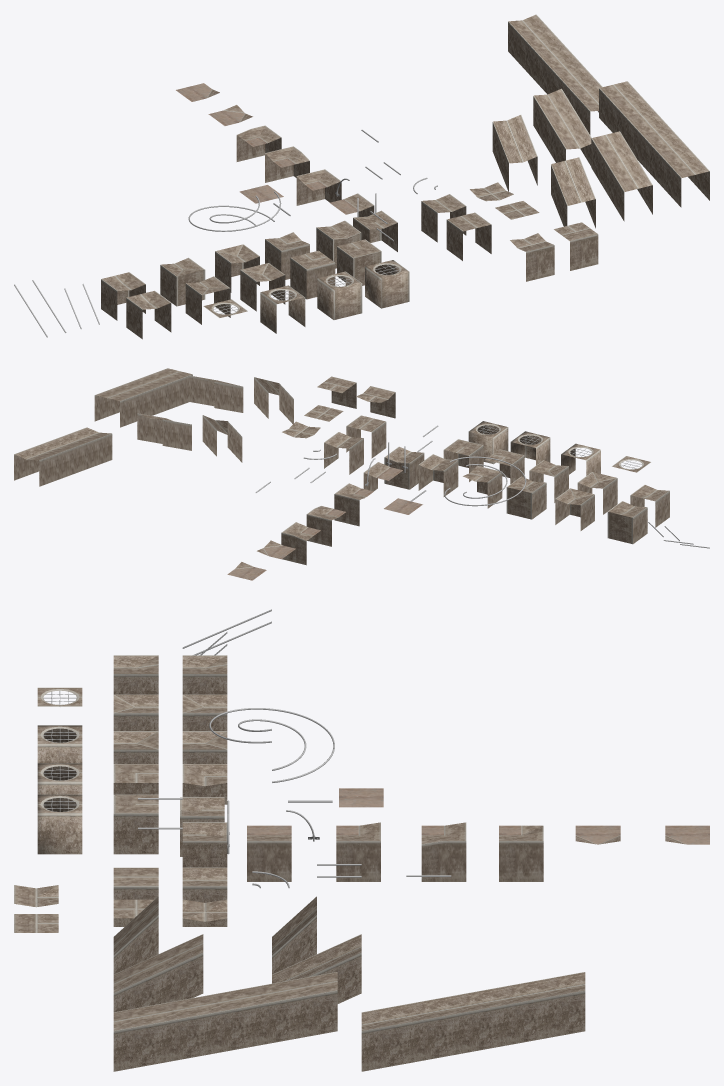
The model's file is Ballance_tileset_current.glb.
3 renders of one model, top to bottom at view 1: azimuth 30°, elevation 25°; view 2: azimuth 150°, elevation 25°; view 3: azimuth 270°, elevation 25°, orthographic. The views are drawn at different scales.
Visible parts, largest first — view 1: ground_flat_steep3.col, ground_curved_steep3.col, ground_flat_steep2.col, ground_curved_steep2.col, ground_curved_steep1.col, ground_flat_steep1.col, casing.col, casing.001.col, ground_flat_turn.col, ground_flattocurved_end.col, ground_curvedtoflat2_open.col, ground_flat.col (+17 smaller); view 2: ground_curved_steep3.col, ground_flat_steep3.col, ground_flat_steep2.col, ground_curved_steep2.col, ground_curvedtoflat2_closed.col, ground_curvedtoflat_end.col, ground_flattocurved_end.col, ground_curved_start.col, ground_curved_end.col, casing.col, ground_curved.col, ground_curved_steep1.col (+22 smaller); view 3: ground_flat_steep3.col, ground_curved_steep3.col, ground_flat_steep2.col, casing.col, ground_flat_start.col, ground_curved_steep2.col, Cube.007, Cube.008, ground2_turn.col, ground2_side.col, ground_flat_steep1.col, ground_curved_steep1.col (+22 smaller).
Part boxes in pixels (x1,y1,x2,y2): ground_flat_steep3.col: [599, 81, 709, 207]; ground_curved_steep3.col: [508, 14, 602, 134]; ground_flat_steep2.col: [591, 131, 652, 221]; ground_curved_steep2.col: [533, 88, 591, 166]; ground_curved_steep1.col: [492, 115, 537, 191]; ground_flat_steep1.col: [551, 157, 595, 228]; casing.col: [365, 260, 409, 308]; casing.001.col: [317, 271, 362, 319]; ground_flat_turn.col: [290, 250, 335, 299]; ground_flattocurved_end.col: [160, 257, 205, 306]; ground_curvedtoflat2_open.col: [126, 290, 171, 339]; ground_flat.col: [446, 212, 491, 260]; ground_curved_steep3.col: [14, 427, 112, 486]; ground_flat_steep3.col: [94, 368, 192, 427]; ground_flat_steep2.col: [189, 375, 243, 412]; ground_curved_steep2.col: [137, 413, 191, 450]; ground_curvedtoflat2_closed.col: [607, 501, 647, 544]; ground_curvedtoflat_end.col: [506, 476, 546, 519]; ground_flattocurved_end.col: [555, 488, 594, 530]; ground_curved_start.col: [418, 454, 458, 496]; ground_curved_end.col: [384, 446, 424, 489]; casing.col: [468, 421, 508, 464]; ground_curved.col: [324, 432, 363, 474]; ground_curved_steep1.col: [202, 415, 242, 462]; ground_flat_steep3.col: [113, 972, 337, 1071]; ground_curved_steep3.col: [361, 972, 585, 1071]; ground_flat_steep2.col: [113, 934, 203, 1012]; casing.col: [37, 794, 82, 854]; ground_flat_start.col: [113, 794, 158, 854]; ground_curved_steep2.col: [272, 934, 361, 1003]; Cube.007: [421, 822, 466, 881]; Cube.008: [499, 825, 543, 881]; ground2_turn.col: [336, 822, 380, 881]; ground2_side.col: [247, 825, 291, 881]; ground_flat_steep1.col: [113, 896, 158, 974]; ground_curved_steep1.col: [272, 896, 316, 974].
Size of the model in its own units: 22.36 by 2 by 15.55.
Materials: 5 (2 with a texture image).
